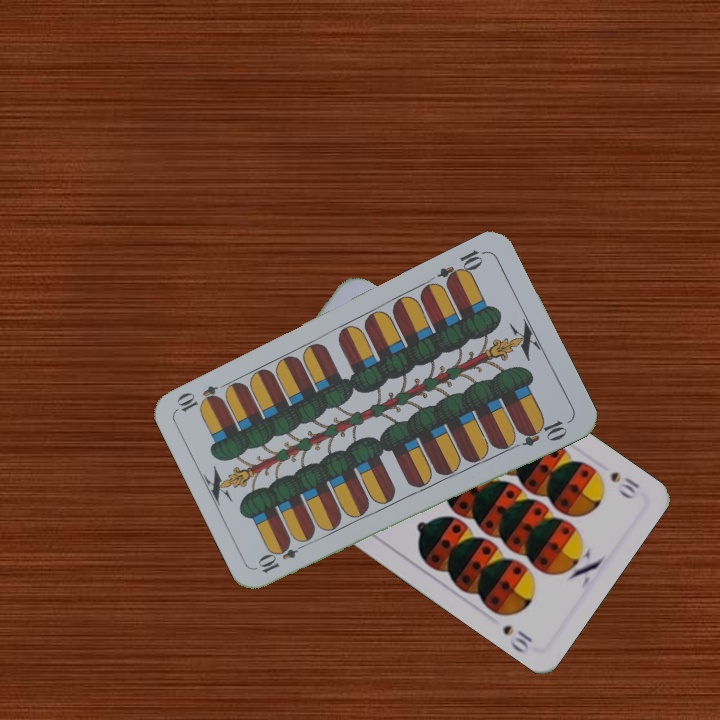E10: (434, 245, 489, 288), (254, 537, 310, 576)
S10: (606, 467, 643, 502)
